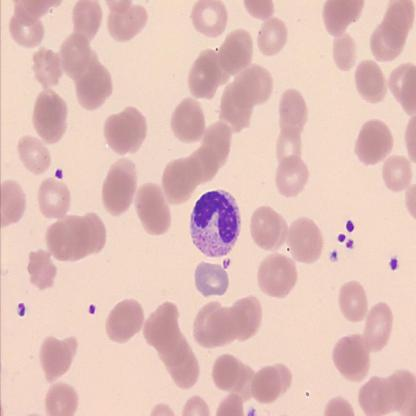Band Neutrophil: (187, 186, 242, 260)
